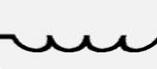inductor: (0, 30, 153, 55)
